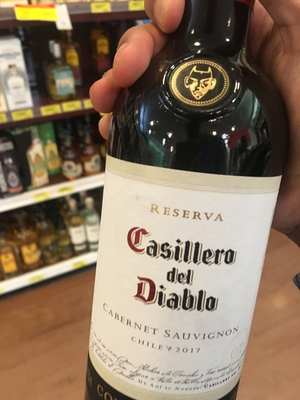casillero del diablo cabernet sauvignon: (87, 16, 282, 400)
